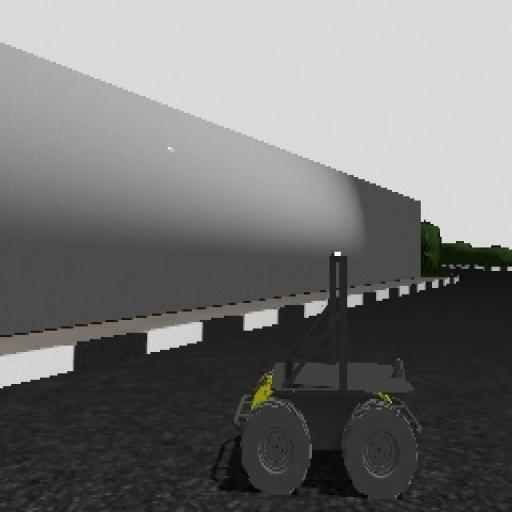huskya200: (186, 231, 450, 510)
